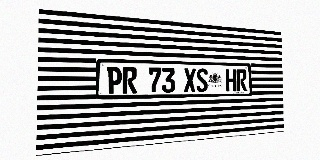3: (162, 68, 175, 93)
7: (148, 67, 162, 93)
H: (226, 69, 236, 92)
P: (107, 67, 122, 94)
R: (122, 67, 137, 93), (236, 69, 247, 91)
S: (196, 68, 208, 92)
X: (184, 68, 196, 92)
